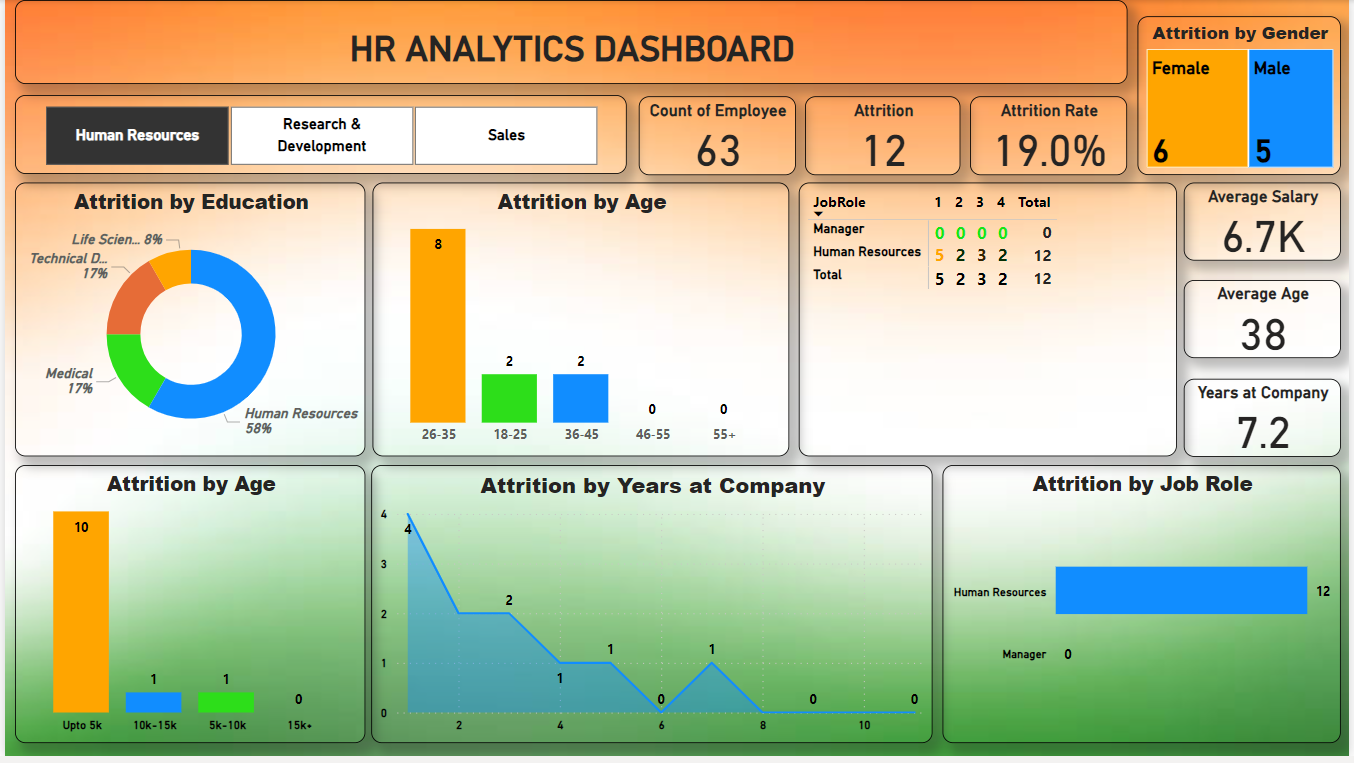

This screenshot's page, from the dashboard's own definition file:
{"tool":"powerbi","page":{"name":"Page 1","canvas":[1280,720],"ordinal":0},"visuals":[{"type":"card","title":"Count of Employee","fields":{"Values":["CountNonNull(HR_Analytics.EmpID)"]},"box":[603.2,91.1,149.8,75.6],"z":0},{"type":"card","title":"Attrition","fields":{"Values":["Sum(HR_Analytics.AttritionCount)"]},"box":[761.2,91.1,148.4,75.6],"z":1000},{"type":"card","title":"Attrition Rate","fields":{"Values":["HR_Analytics.AttritionRate"]},"box":[919.2,91.1,149.8,75.6],"z":2000},{"type":"card","title":"Average Age","fields":{"Values":["Avg(HR_Analytics.Age)"]},"box":[1122.5,266.9,149.8,74.2],"z":3000},{"type":"card","title":"Average Salary","fields":{"Values":["Avg(HR_Analytics.MonthlyIncome)"]},"box":[1122.5,173.5,149.8,74.2],"z":4000},{"type":"card","title":"Years at Company","fields":{"Values":["Avg(HR_Analytics.YearsAtCompany)"]},"box":[1122.5,360.4,149.8,74.2],"z":5000},{"type":"donutChart","title":"Attrition by Education","fields":{"Category":["HR_Analytics.EducationField"],"Y":["Sum(HR_Analytics.AttritionCount)"]},"box":[10,173.5,333.9,261.1],"z":6000},{"type":"columnChart","title":"Attrition by Age","fields":{"Category":["HR_Analytics.AgeGroup"],"Y":["Sum(HR_Analytics.AttritionCount)"]},"box":[349.4,173.5,397.1,261.1],"z":7000},{"type":"pivotTable","fields":{"Rows":["HR_Analytics.JobRole"],"Columns":["HR_Analytics.JobSatisfaction"],"Values":["Sum(HR_Analytics.AttritionCount)"]},"box":[756.1,173.5,360,261.1],"z":8000},{"type":"columnChart","title":"Attrition by Age","fields":{"Category":["HR_Analytics.SalarySlab"],"Y":["Sum(HR_Analytics.AttritionCount)"]},"box":[9.6,442.8,333.9,265.2],"z":9000},{"type":"clusteredBarChart","title":"Attrition by Job Role","fields":{"Category":["HR_Analytics.JobRole"],"Y":["Sum(HR_Analytics.AttritionCount)"]},"box":[893.1,442.8,379.2,265.2],"z":10000},{"type":"areaChart","title":"Attrition by Years at Company","fields":{"Y":["Sum(HR_Analytics.AttritionCount)"],"Category":["HR_Analytics.YearsAtCompany"]},"box":[349,442.8,534.5,265.2],"z":11000},{"type":"treemap","title":"Attrition by Gender","fields":{"Group":["HR_Analytics.Gender"],"Values":["Sum(HR_Analytics.AttritionCount)"]},"box":[1078.6,15.1,193.7,151.1],"z":12000},{"type":"slicer","fields":{"Values":["HR_Analytics.Department"]},"box":[9.6,90.7,582.6,75.6],"z":13000},{"type":"textbox","box":[9.6,0,1059.3,79.7],"z":14000}]}

Visuals, with their boxes in screenshot pixels (x1, y1, x2, y2), scaled from the page's 1280x720 canvas onto the 1354x763 screenshot:
"Count of Employee" card: 638/97/797/177
"Attrition" card: 805/97/962/177
"Attrition Rate" card: 972/97/1131/177
"Average Age" card: 1187/283/1346/361
"Average Salary" card: 1187/184/1346/262
"Years at Company" card: 1187/382/1346/461
"Attrition by Education" donutChart: 11/184/364/461
"Attrition by Age" columnChart: 370/184/790/461
pivotTable - HR_Analytics.JobRole x HR_Analytics.JobSatisfaction: 800/184/1181/461
"Attrition by Age" columnChart: 10/469/363/750
"Attrition by Job Role" clusteredBarChart: 945/469/1346/750
"Attrition by Years at Company" areaChart: 369/469/935/750
"Attrition by Gender" treemap: 1141/16/1346/176
slicer - HR_Analytics.Department: 10/96/626/176
textbox: 10/0/1131/84
